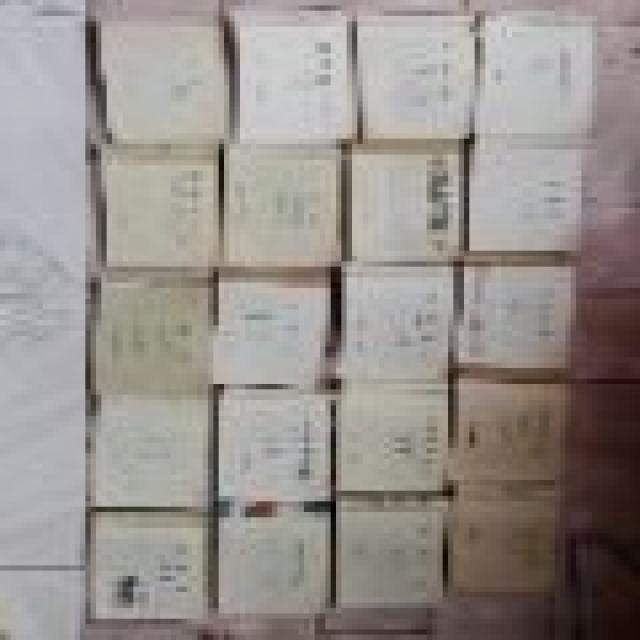box: (459, 0, 640, 139), (448, 379, 640, 501), (448, 261, 640, 379), (464, 139, 640, 261), (336, 0, 475, 144), (219, 0, 357, 144), (96, 0, 229, 144), (213, 144, 347, 277), (85, 389, 219, 512), (101, 144, 224, 277), (336, 144, 469, 267), (336, 261, 459, 384), (85, 512, 219, 624), (91, 272, 213, 395), (213, 272, 331, 395), (213, 395, 331, 512), (336, 379, 448, 496), (331, 496, 448, 608), (443, 491, 565, 597), (213, 512, 331, 619)
